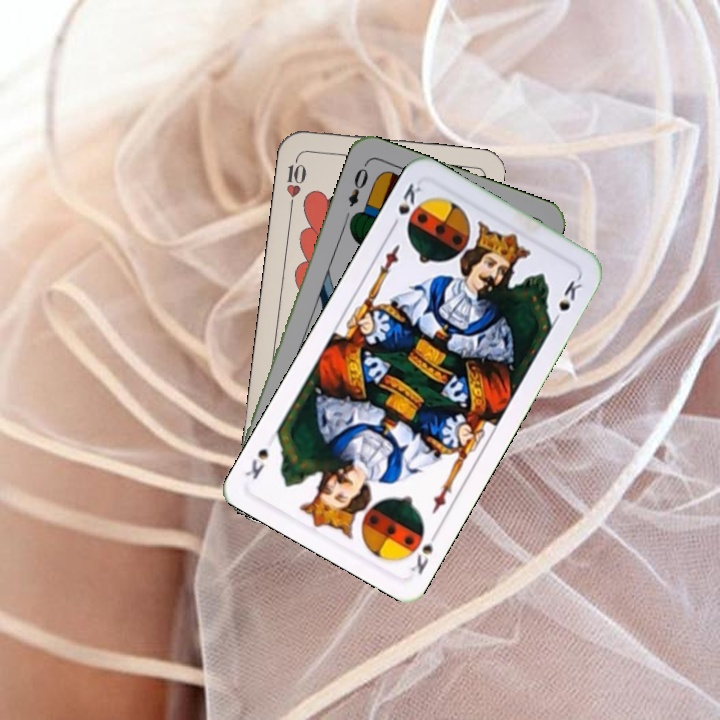EO: (344, 159, 371, 210)
H10: (282, 151, 309, 210)
SK: (386, 178, 424, 233), (406, 524, 440, 578)
